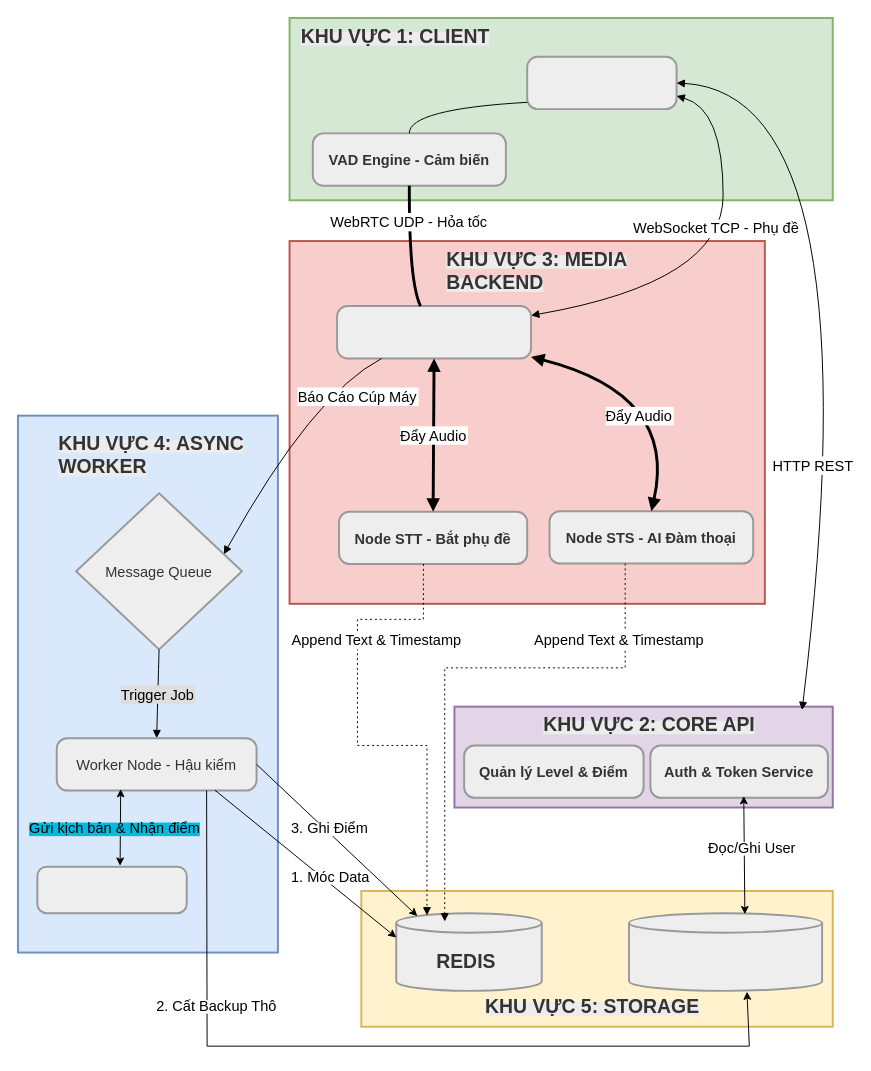
The diagram is 871 pixels wide and 1071 high, and some of its shapes have lost their labels. Each missing label, with the box of its shape:
App/Web L.U.V.E: (526, 55, 677, 110)
Database: (628, 912, 823, 991)
External LLM API: (36, 865, 187, 914)
TEN Gateway - C++/Go: (336, 305, 532, 359)
